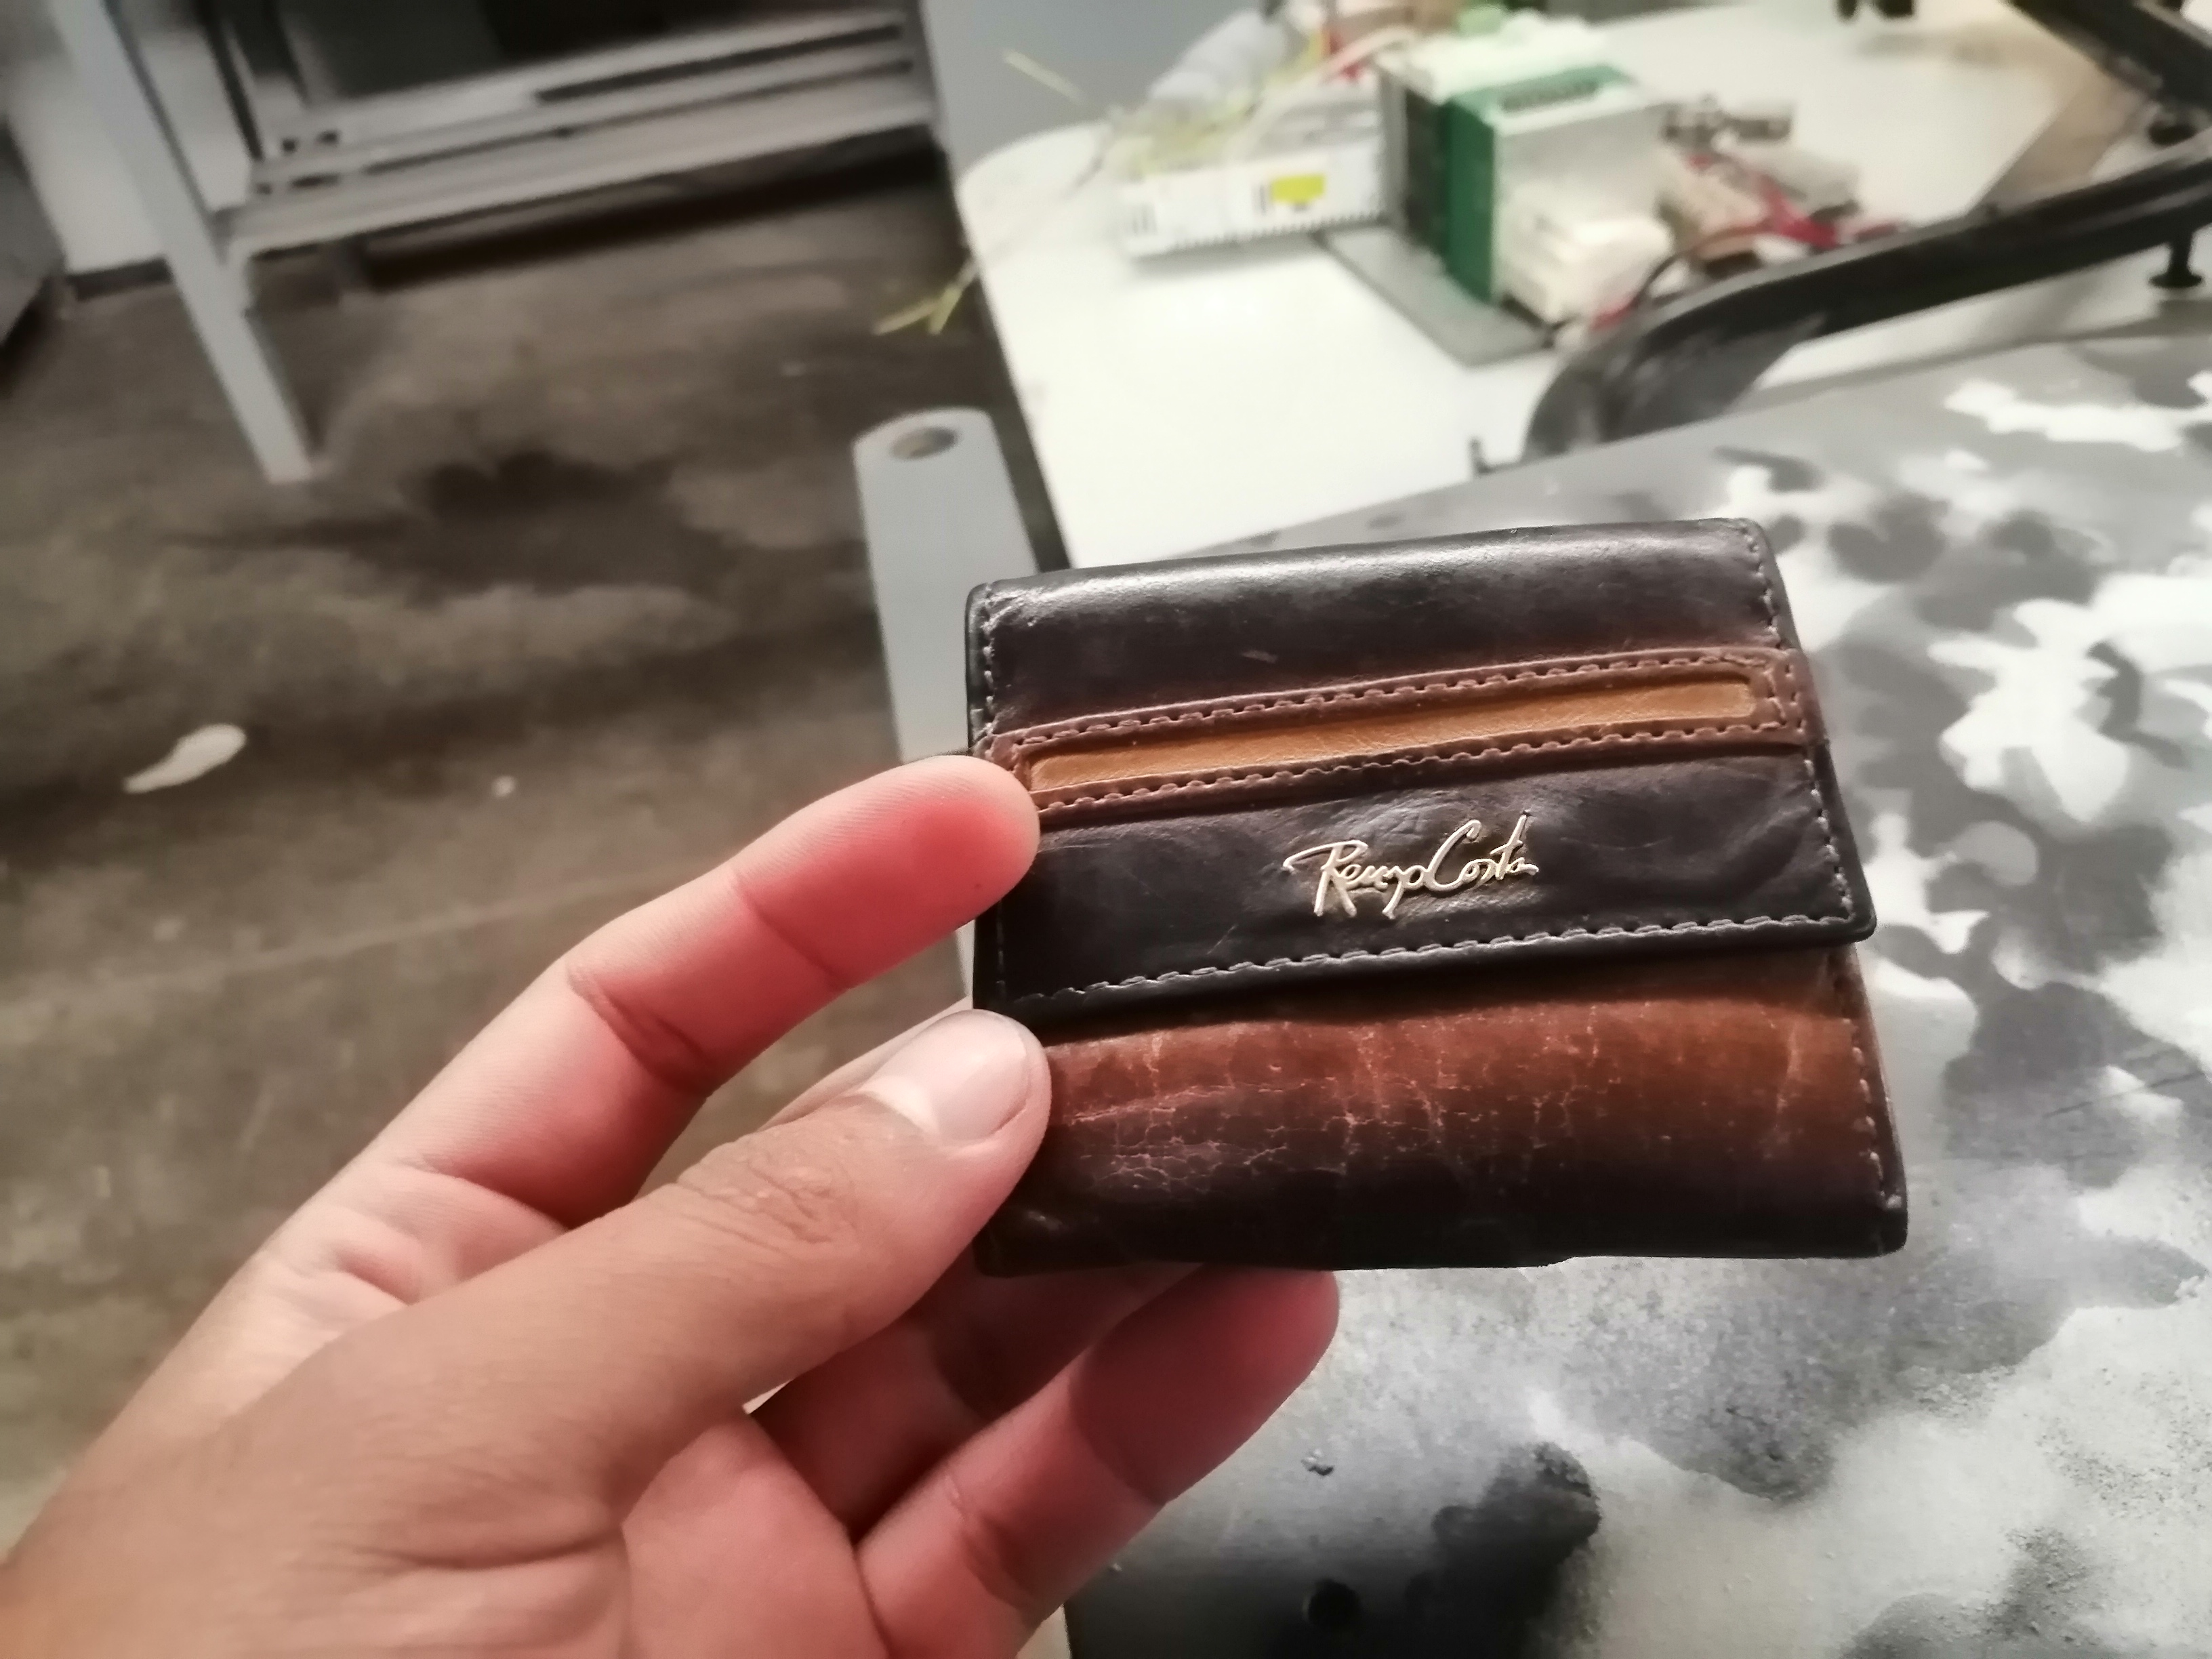monedero: (949, 514, 1926, 1276)
